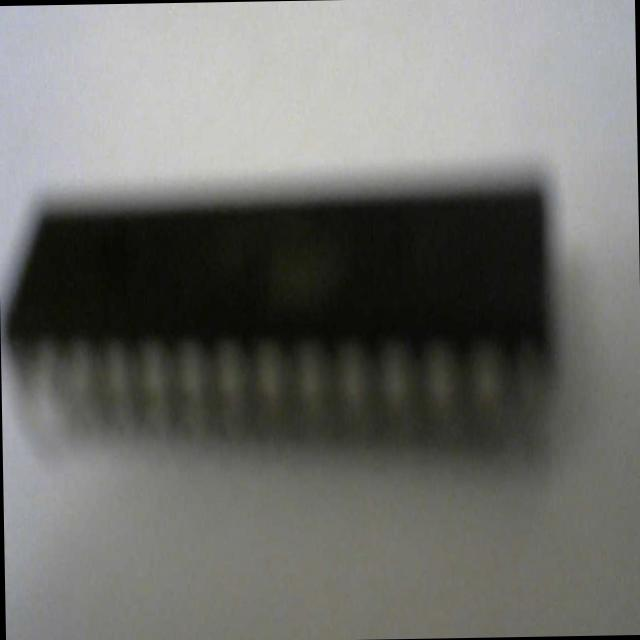atmega: (0, 157, 569, 474)
